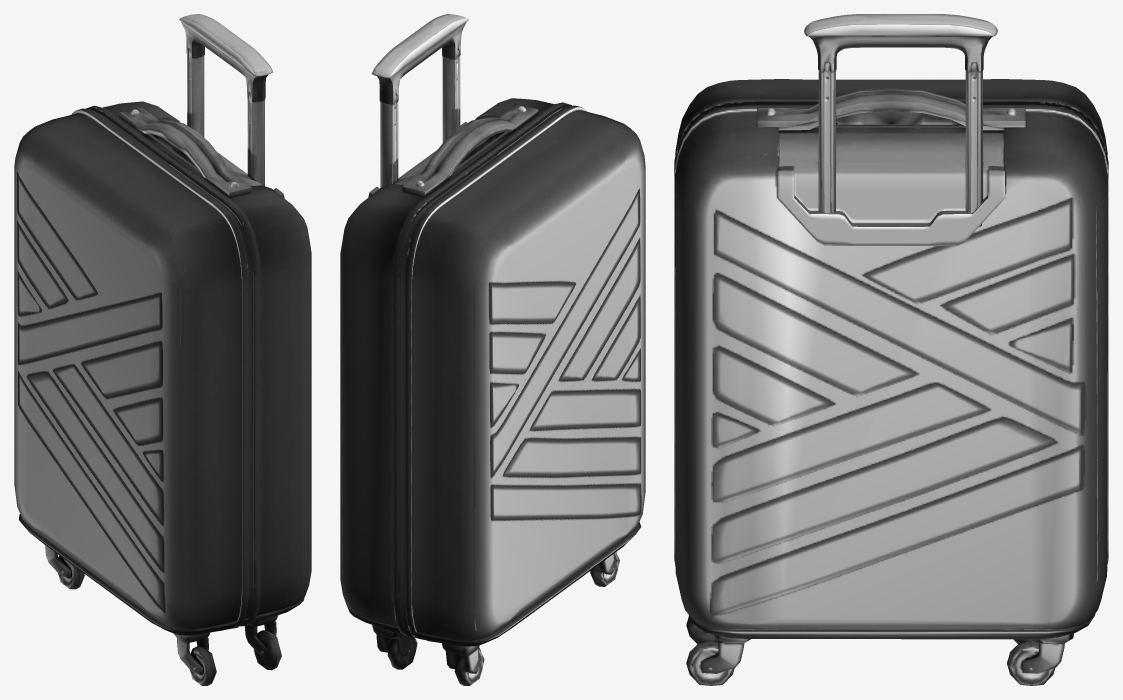
The model's file is luggage.obj.
3 renders of one model, left to right at view 1: azimuth 30°, elevation 25°; view 2: azimuth 150°, elevation 25°; view 3: azimuth 270°, elevation 25°, orthographic. The views are drawn at different scales.
Visible parts, largest first — view 1: Bag.LP_Plane.006; view 2: Bag.LP_Plane.006; view 3: Bag.LP_Plane.006.
Part boxes in pixels (x1,y1,x2,y2): Bag.LP_Plane.006: (14, 14, 311, 685); Bag.LP_Plane.006: (340, 14, 645, 685); Bag.LP_Plane.006: (674, 14, 1108, 685).
Size of the model in its own units: 1.04 by 3.77 by 2.16.
